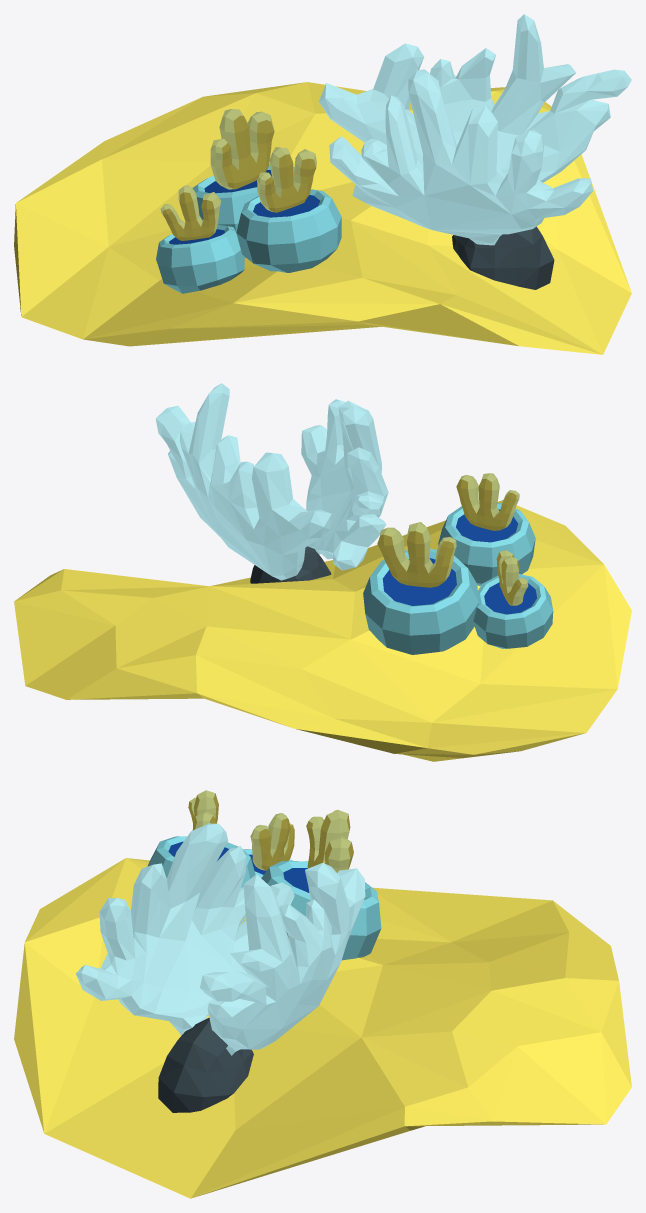
Rendered from Coralls_007.glb.
The picture shows the model from 3 angles, top to bottom: view 1: azimuth 30°, elevation 25°; view 2: azimuth 150°, elevation 25°; view 3: azimuth 270°, elevation 25°; orthographic projection. The views are drawn at different scales.
Parts seen in each view (by area): view 1: Coralls_007; view 2: Coralls_007; view 3: Coralls_007.
Boxes of the visible parts, <box> form: Coralls_007: <box>14,14,631,354</box>; Coralls_007: <box>14,383,631,761</box>; Coralls_007: <box>14,790,631,1198</box>.
Bounding box in the file's own units: 2.02 × 0.9778 × 1.84.
2 materials, 2 textured.
